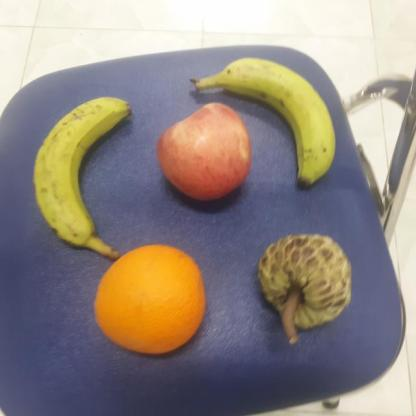annona: (256, 232, 356, 348)
apple: (154, 100, 252, 204)
banana: (31, 92, 140, 263)
orange: (91, 242, 215, 357)
